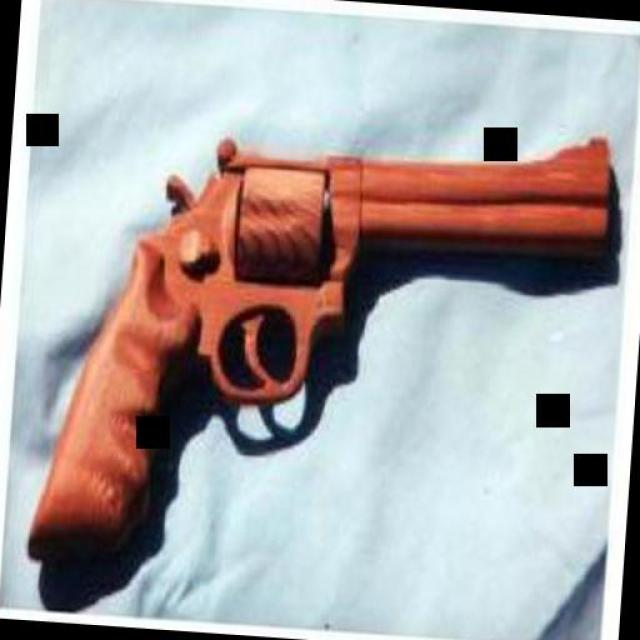gun: (24, 87, 614, 598)
